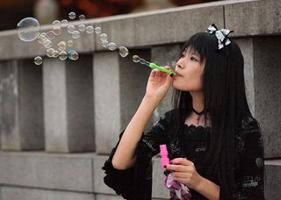person: (100, 32, 270, 199)
